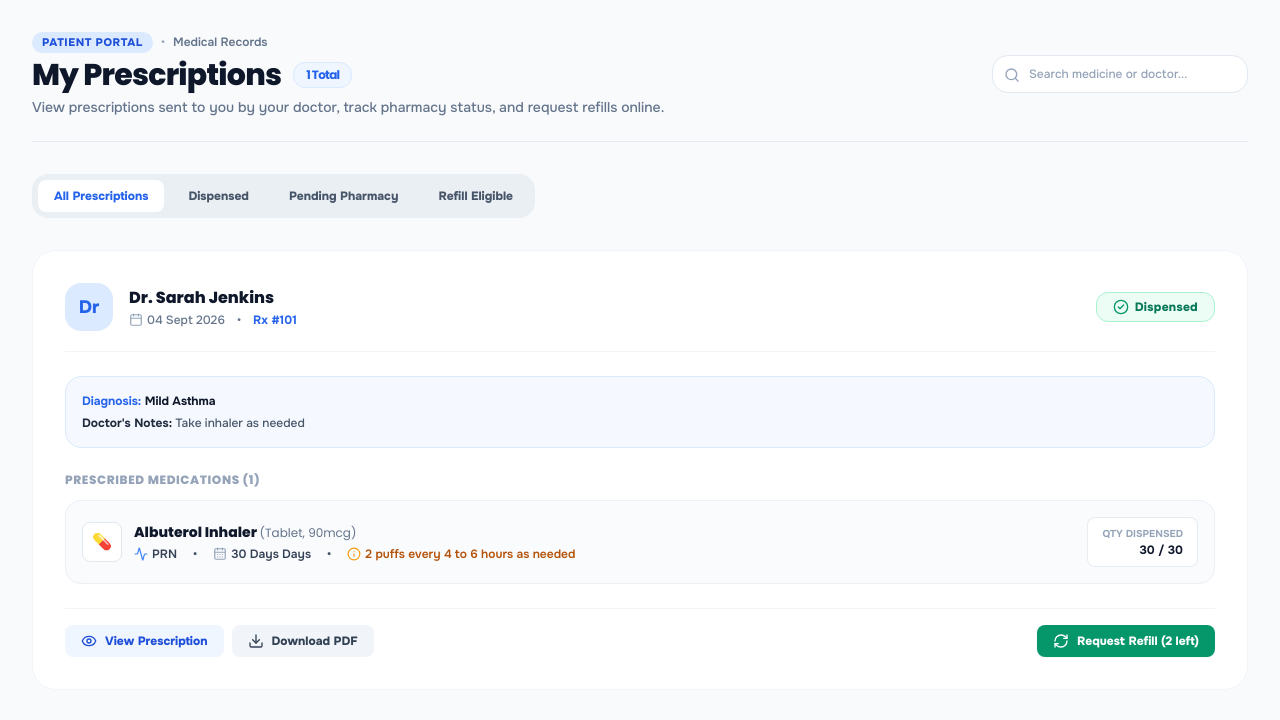
Scenario: PatientPrescriptions Component › opens refill modal when clicking request refill button
expect the heading "Dr. Sarah Jenkins" is shown: met, box [129,286,297,310]
Click the button "Request Refill (2 left)" at coordinates (1126, 640), box [1037,624,1215,656]
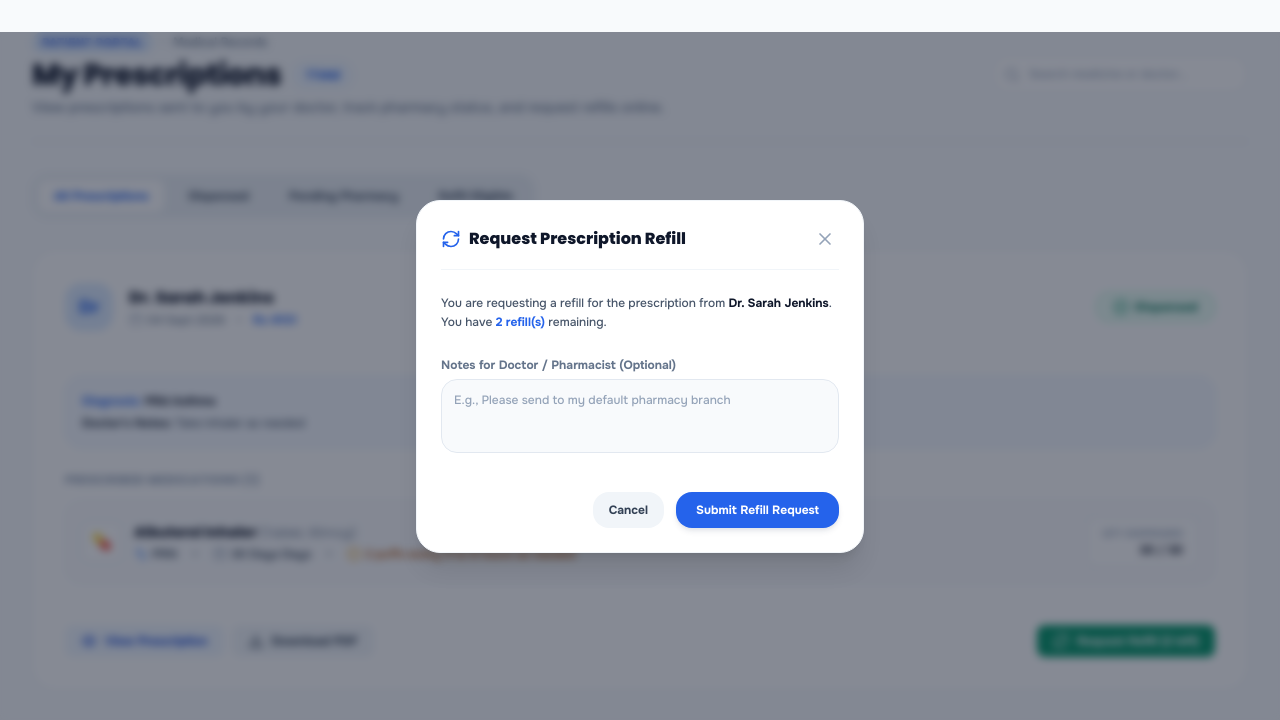
expect the heading "Request Prescription Refill" is shown: met, box [441,226,686,250]
